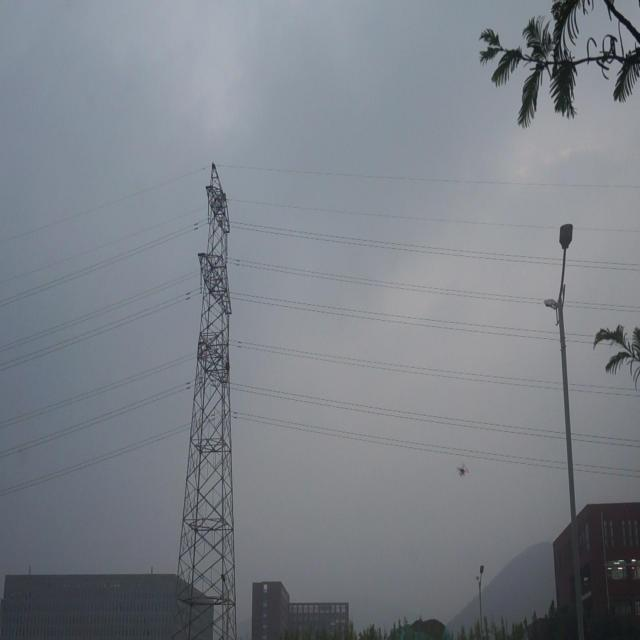UAV: (456, 464, 469, 476)
